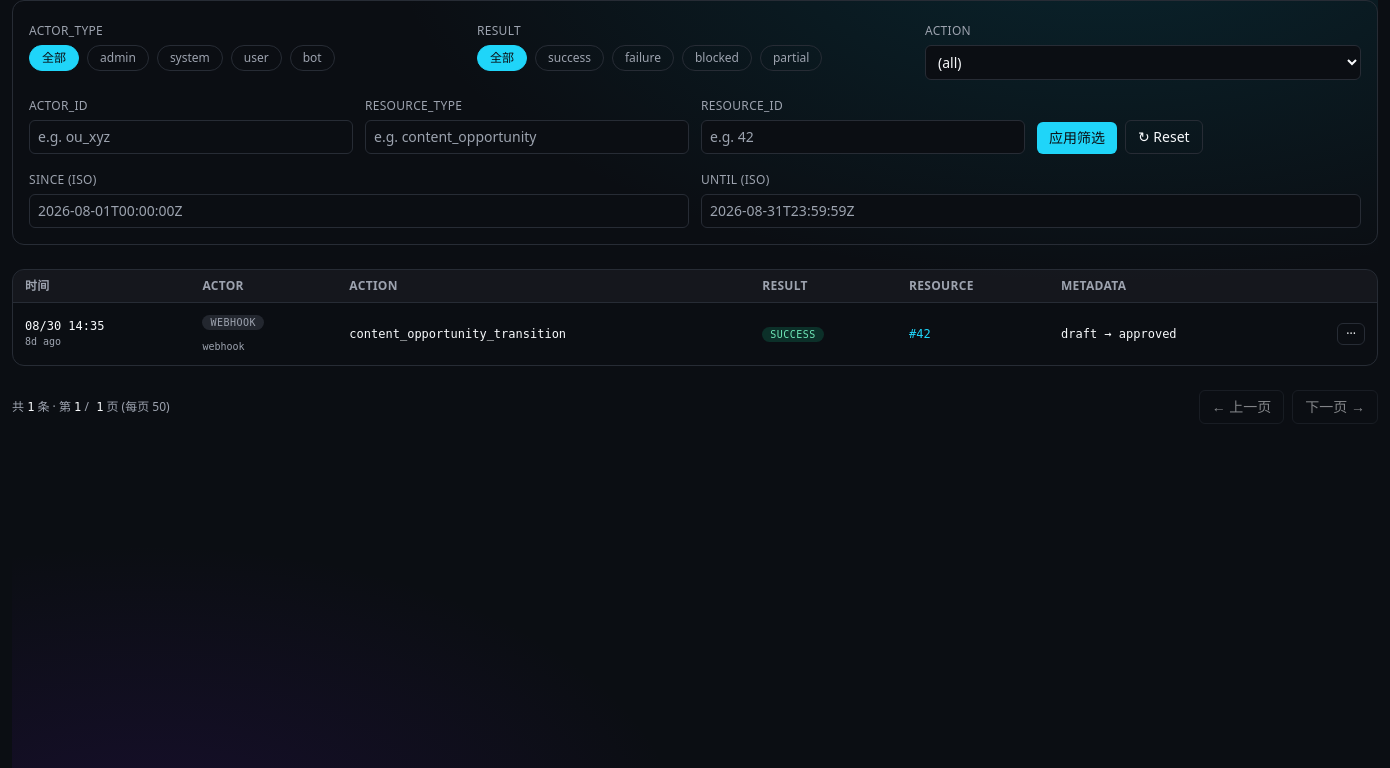
Test case: AuditLogsPanel › clicking the ··· button expands the metadata drawer; second click collapses
What coordinates should you click on to do the following:
click the button with test id "audit-toggle-99"
I would click on:
 (1351, 334)
Its box is [1337,323,1365,345].
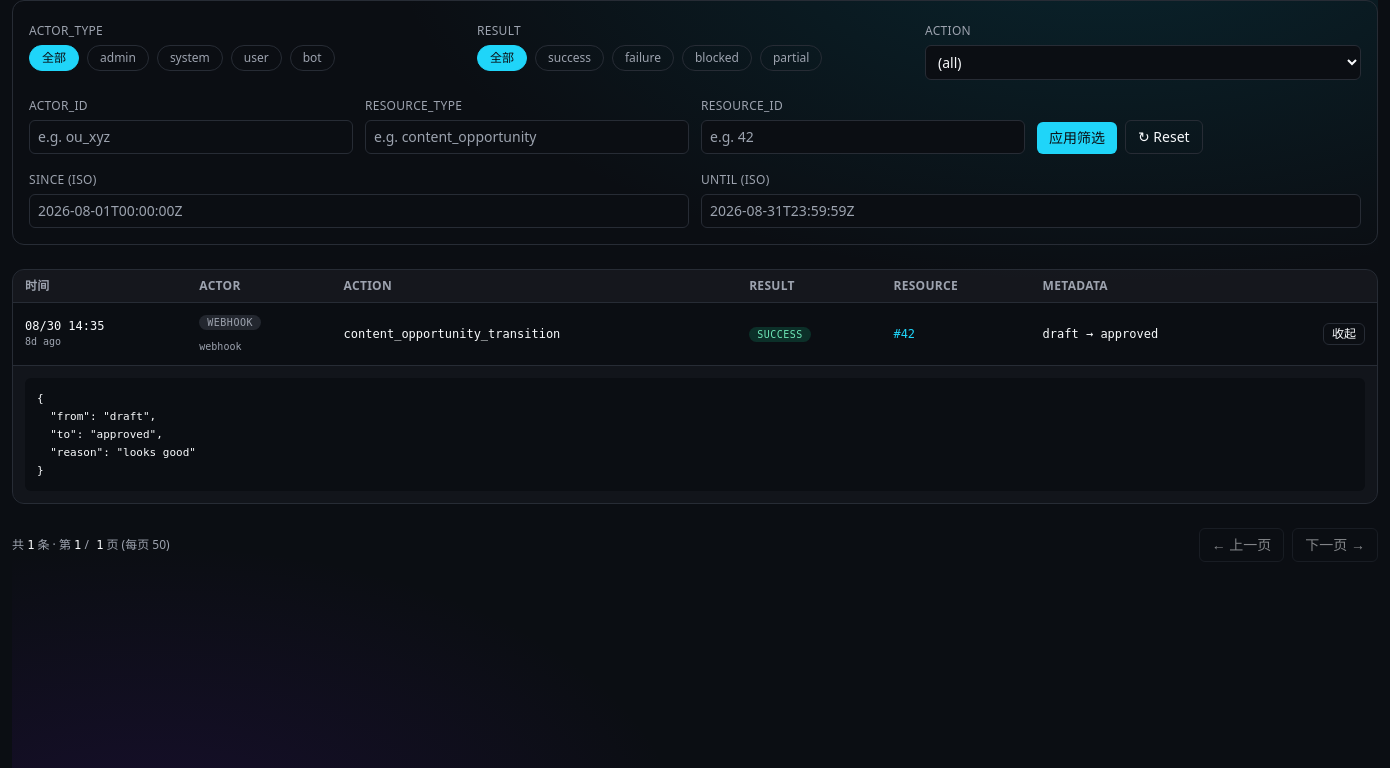
Check: the row with test id "audit-meta-99" is shown, box [13,366,1377,503]
Check: the text with test id "audit-meta-pre-99" shows "\"reason\": \"looks good\"", box [37,392,196,476]
// Second click collapses.
What coordinates should you click on to do the following:
click the button with test id "audit-toggle-99"
I would click on:
 (1344, 334)
Its box is [1323,323,1365,345].
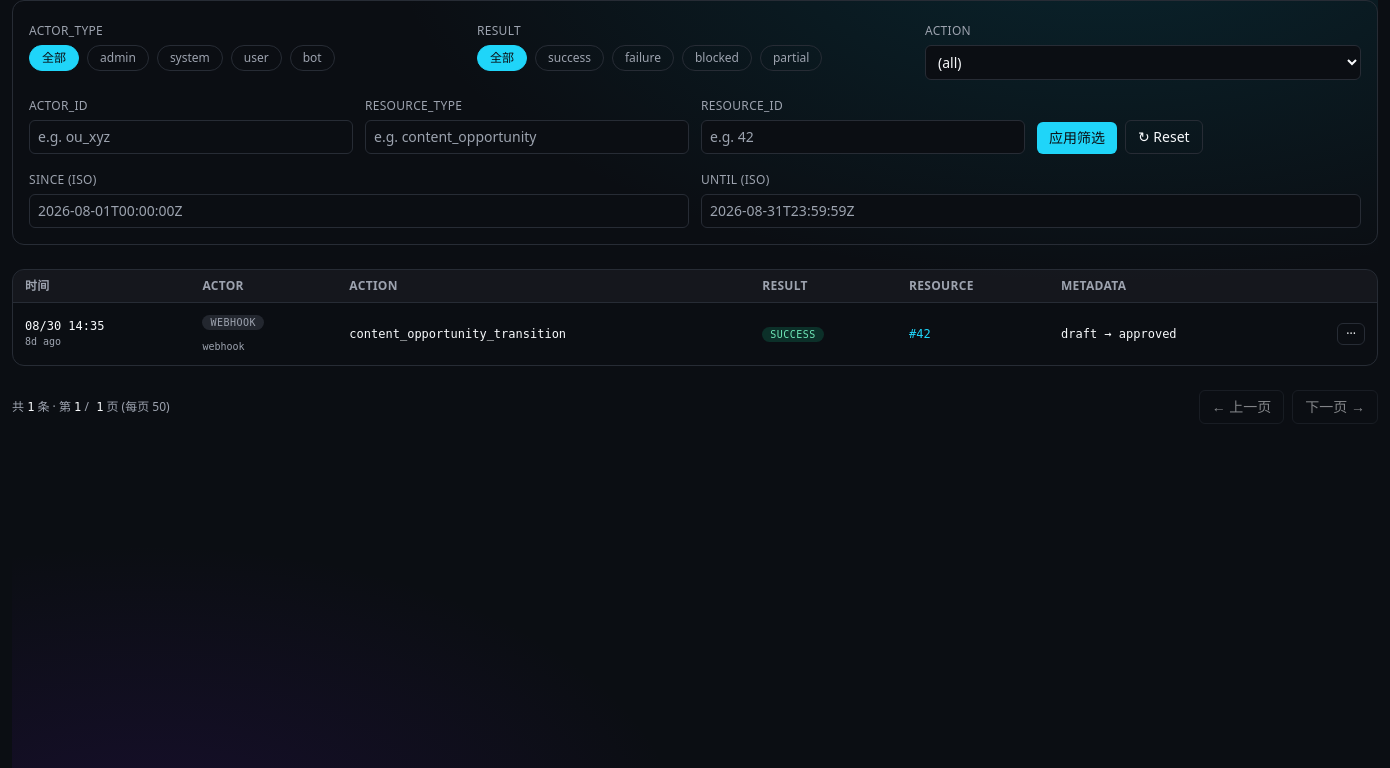
Check: the row with test id "audit-meta-99" is gone
